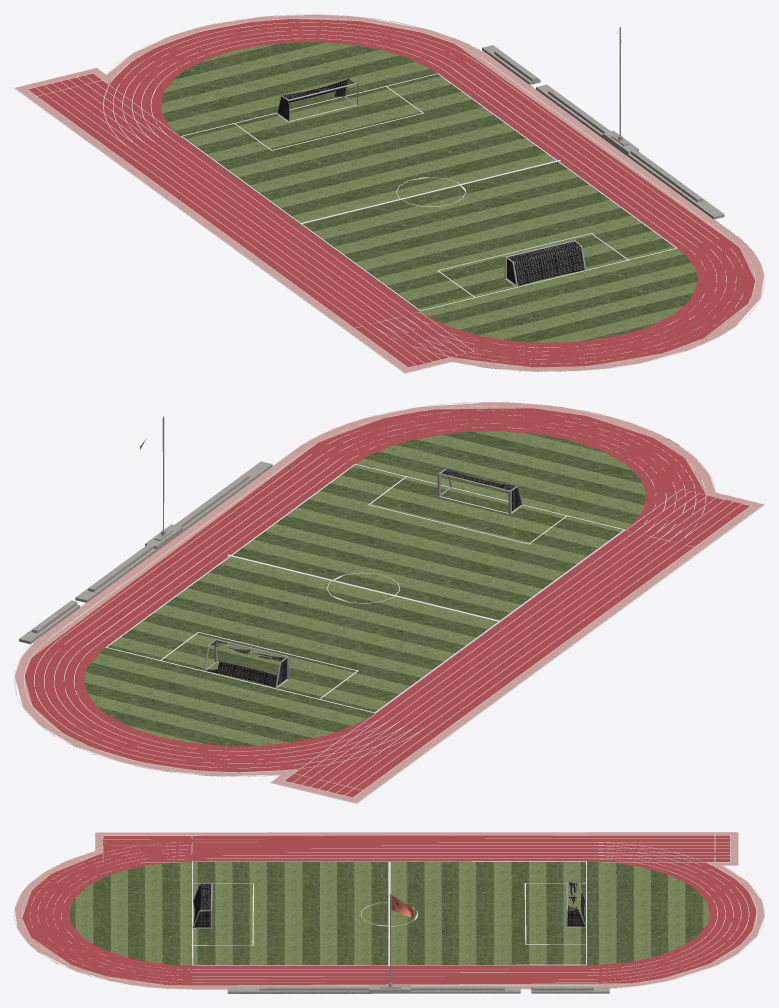
Rendered from Plastic_runway.glb.
3 views of the same model, one above another, from view 1: azimuth 30°, elevation 25°; view 2: azimuth 150°, elevation 25°; view 3: azimuth 270°, elevation 25° (orthographic). The views are drawn at different scales.
Parts seen in each view (by area): view 1: Obj3d66-9179848-20-556, Obj3d66-9179848-15-348, Obj3d66-9179848-7-730, Obj3d66-9179848-19-698; view 2: Obj3d66-9179848-20-556, Obj3d66-9179848-15-348, Obj3d66-9179848-7-730, Obj3d66-9179848-19-698; view 3: Obj3d66-9179848-20-556, Obj3d66-9179848-15-348, Obj3d66-9179848-7-730, Obj3d66-9179848-19-698.
Boxes of the visible parts, x1,y1,x2,y2 form: Obj3d66-9179848-20-556: (161, 42, 697, 342); Obj3d66-9179848-15-348: (14, 14, 764, 373); Obj3d66-9179848-7-730: (482, 45, 724, 219); Obj3d66-9179848-19-698: (277, 79, 584, 285); Obj3d66-9179848-20-556: (84, 431, 645, 746); Obj3d66-9179848-15-348: (14, 402, 764, 803); Obj3d66-9179848-7-730: (19, 461, 272, 644); Obj3d66-9179848-19-698: (206, 469, 521, 686); Obj3d66-9179848-20-556: (69, 861, 709, 965); Obj3d66-9179848-15-348: (14, 832, 764, 989); Obj3d66-9179848-7-730: (227, 985, 609, 993); Obj3d66-9179848-19-698: (193, 882, 585, 927).
Bounding box in the file's own units: 17.81 × 5.01 × 34.48.
6 materials, 6 textured.
